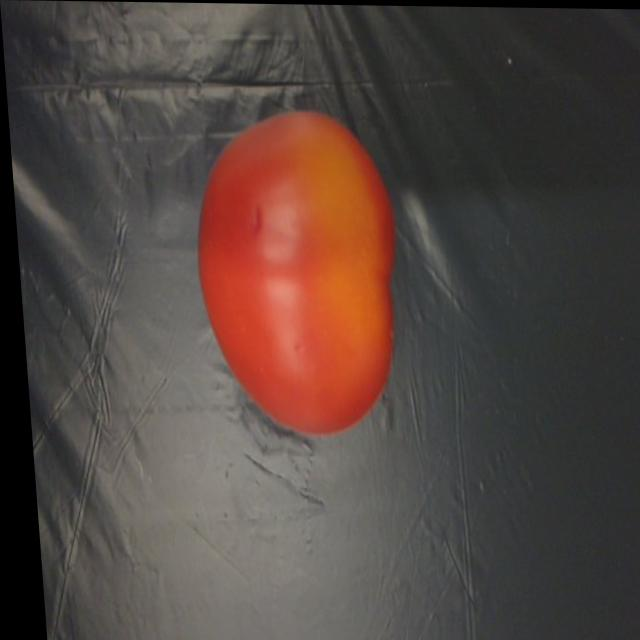kirmizi: (191, 96, 407, 458)
